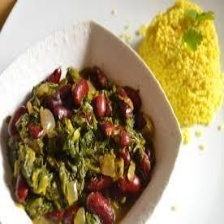rice: (130, 0, 224, 145)
